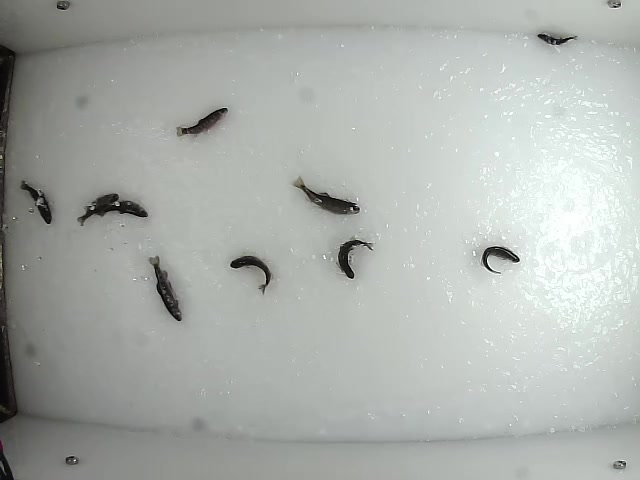fish: (291, 174, 363, 216), (142, 254, 182, 324), (227, 254, 274, 296), (174, 105, 231, 138), (336, 234, 374, 281), (17, 180, 54, 226), (75, 192, 121, 227), (479, 245, 522, 276), (84, 199, 149, 219), (534, 32, 580, 47)
